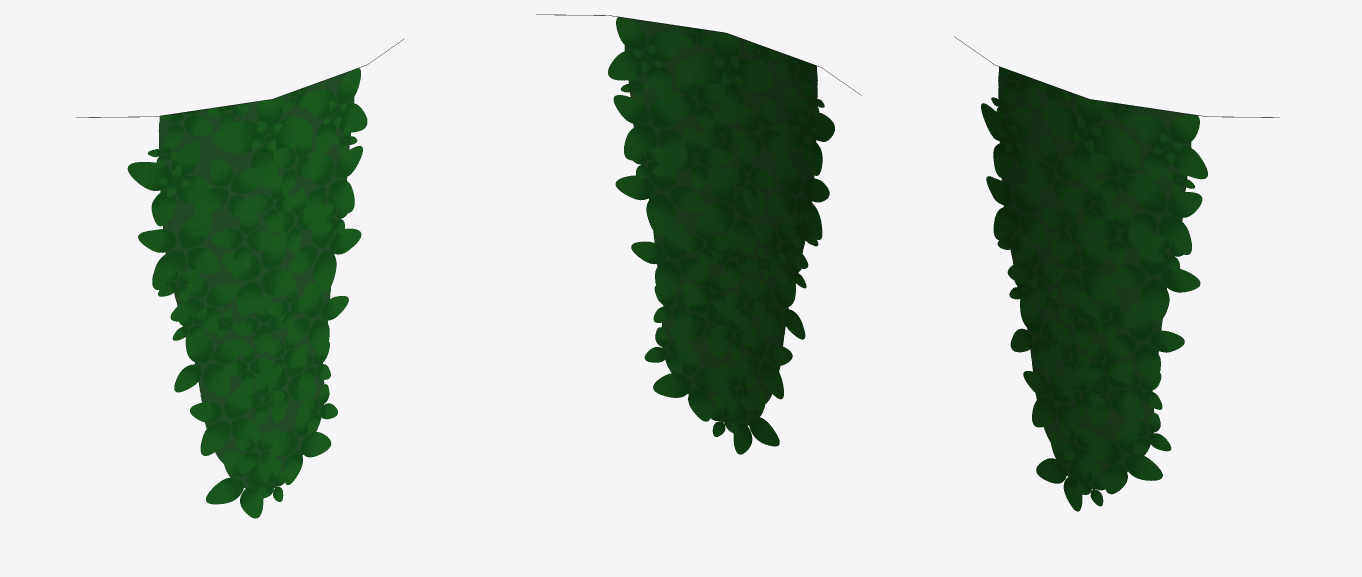
File: Moss01.fbx
3 views of the same model, side by side, from view 1: azimuth 30°, elevation 25°; view 2: azimuth 150°, elevation 25°; view 3: azimuth 330°, elevation 25° (orthographic).
Visible parts, largest first — view 1: Moss01; view 2: Moss01; view 3: Moss01.
Boxes of the visible parts, bbox=[...] form: Moss01: bbox=[76, 39, 403, 518]; Moss01: bbox=[536, 14, 861, 454]; Moss01: bbox=[954, 36, 1279, 511].
Bounding box in the file's own units: 200 × 200 × 36.9.
Materials: 1 (1 with a texture image).
